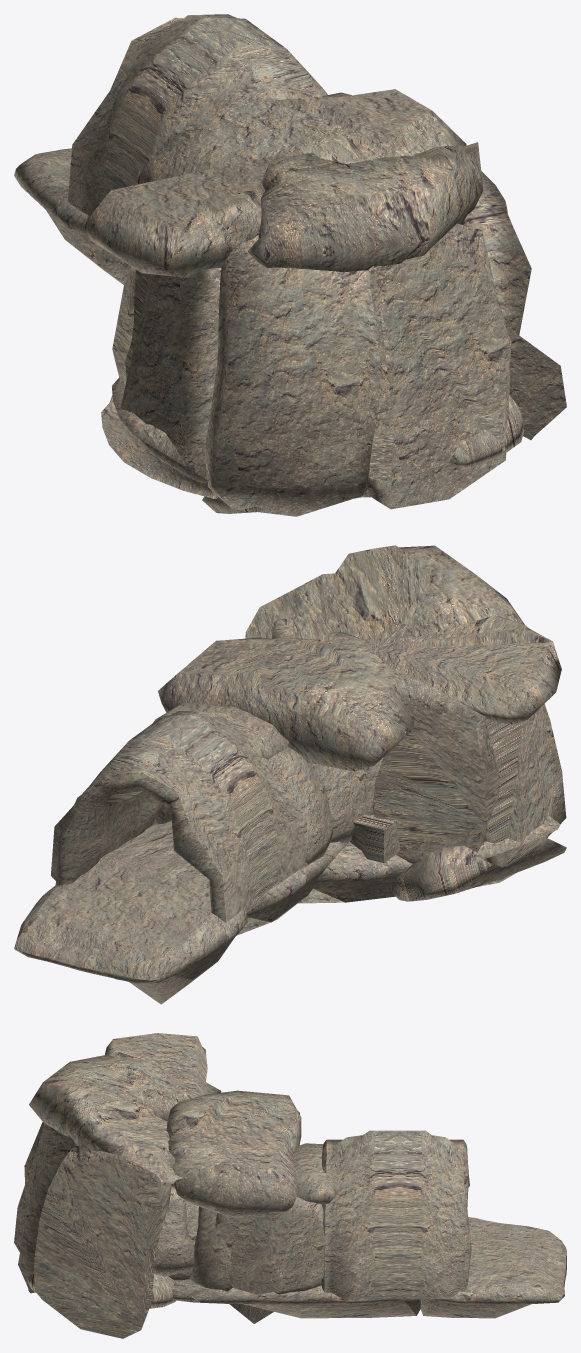
The model's file is CliffCave.fbx.
The picture shows the model from 3 angles, top to bottom: view 1: azimuth 30°, elevation 25°; view 2: azimuth 150°, elevation 25°; view 3: azimuth 270°, elevation 25°; orthographic projection. The views are drawn at different scales.
Parts seen in each view (by area): view 1: pasted__pasted__pCube2 (×5), pasted__pCube2 (×2), pasted__pasted__pasted__pCube2, pasted__pasted__pPipe1, pasted__pPipe1, pasted__pasted__pCube1, pCube3, pasted__pCube3; view 2: pasted__pasted__pCube2 (×6), pasted__pasted__pCube1 (×2), pasted__pPipe1, pasted__pasted__pasted__pCube2, pasted__pasted__pPipe1, pasted__pCube2, pCube3, pasted__pCube1, pasted__pasted__pasted__pasted__pCube2, pCube4; view 3: pasted__pasted__pCube2 (×5), pasted__pCube2, pasted__pasted__pasted__pCube2 (×3), pasted__pasted__pCube1 (×2), pasted__pasted__pPipe1, pasted__pPipe1, pCube2, pasted__pasted__pasted__pasted__pCube2, pasted__pCube1, pasted__pCube3.
Boxes of the visible parts, x1,y1,x2,y2 form: pasted__pasted__pCube2 (×5): [83, 89, 511, 516]; pasted__pCube2 (×2): [120, 171, 566, 482]; pasted__pasted__pasted__pCube2: [248, 142, 483, 272]; pasted__pasted__pPipe1: [119, 30, 327, 188]; pasted__pPipe1: [68, 14, 264, 215]; pasted__pasted__pCube1: [14, 148, 127, 284]; pCube3: [101, 378, 218, 498]; pasted__pCube3: [449, 395, 524, 468]; pasted__pasted__pCube2 (×6): [153, 616, 566, 864]; pasted__pasted__pCube1 (×2): [14, 820, 349, 1004]; pasted__pPipe1: [51, 727, 264, 922]; pasted__pasted__pasted__pCube2: [245, 545, 524, 645]; pasted__pasted__pPipe1: [113, 711, 309, 893]; pasted__pCube2: [476, 706, 554, 867]; pCube3: [390, 816, 566, 901]; pasted__pCube1: [298, 842, 412, 903]; pasted__pasted__pasted__pasted__pCube2: [309, 763, 365, 843]; pCube4: [350, 814, 399, 862]; pasted__pasted__pCube2 (×5): [14, 1033, 336, 1293]; pasted__pCube2: [34, 1145, 175, 1338]; pasted__pasted__pasted__pCube2 (×3): [29, 1054, 232, 1291]; pasted__pasted__pCube1 (×2): [191, 1217, 566, 1318]; pasted__pasted__pPipe1: [321, 1130, 399, 1299]; pasted__pPipe1: [399, 1130, 471, 1299]; pCube2: [266, 1197, 325, 1294]; pasted__pasted__pasted__pasted__pCube2: [215, 1212, 285, 1294]; pasted__pCube1: [172, 1279, 273, 1323]; pasted__pCube3: [27, 1271, 175, 1308].
Bounding box in the file's own units: 47.89 × 39.07 × 82.03.
24 materials, 24 textured.
